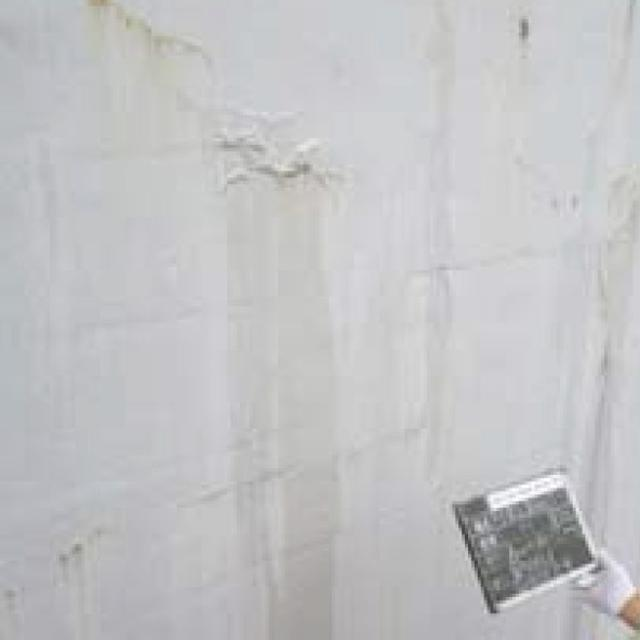leakage: (216, 110, 363, 634)
